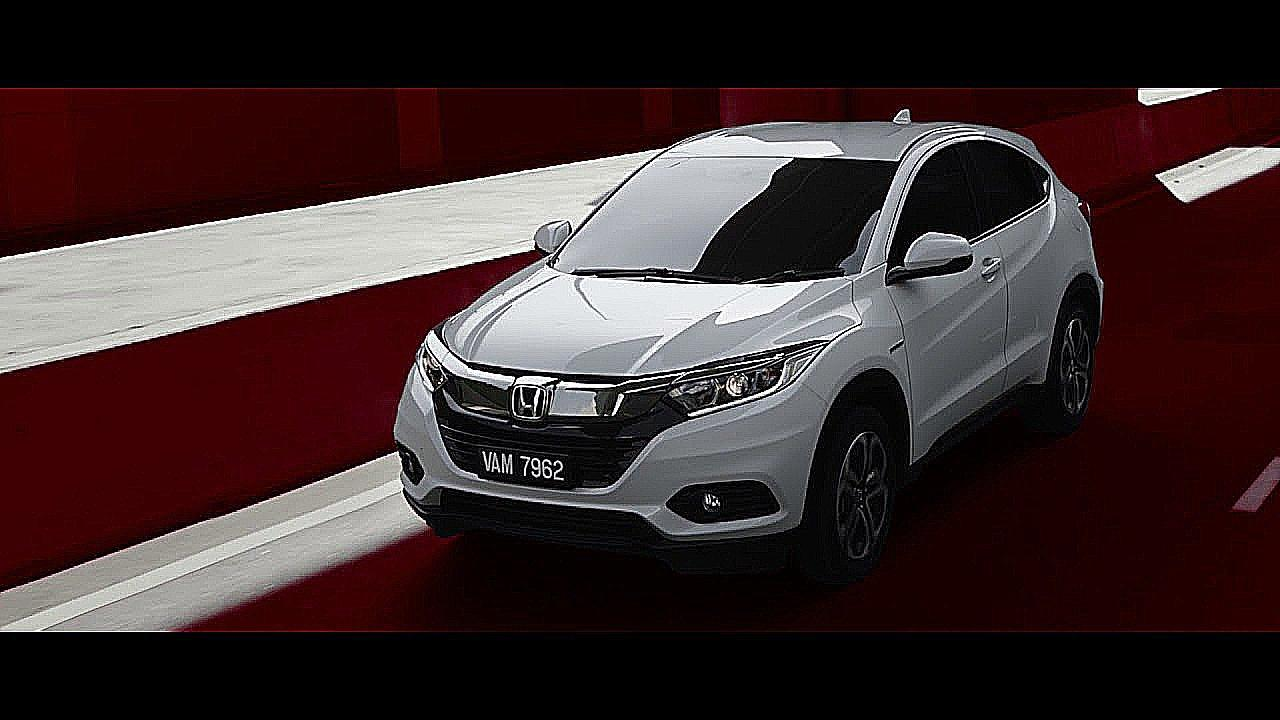Car hood: (426, 269, 862, 377)
Fender - -F-L-: (785, 259, 930, 457)
Front bumper: (380, 381, 837, 556)
Headlight - -L-: (663, 337, 832, 422)
Passenger-s door - -F-L-: (885, 117, 1018, 469)
Passenger-s door - -R-L-: (956, 121, 1071, 403)
Side bumper - -L-: (895, 346, 1057, 476)
Side mirror - -L-: (874, 228, 973, 296)
Side mirror - -R-: (533, 217, 580, 258)
